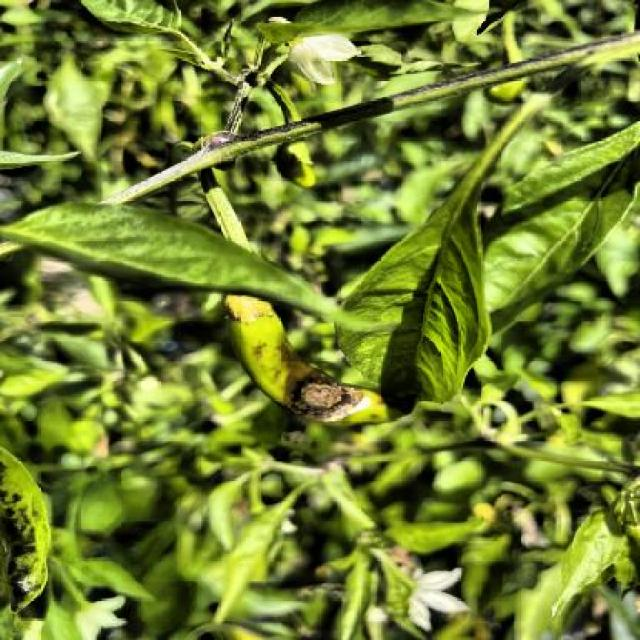Moko: (225, 327, 392, 476), (375, 233, 509, 414), (0, 432, 67, 603), (193, 54, 282, 164)
